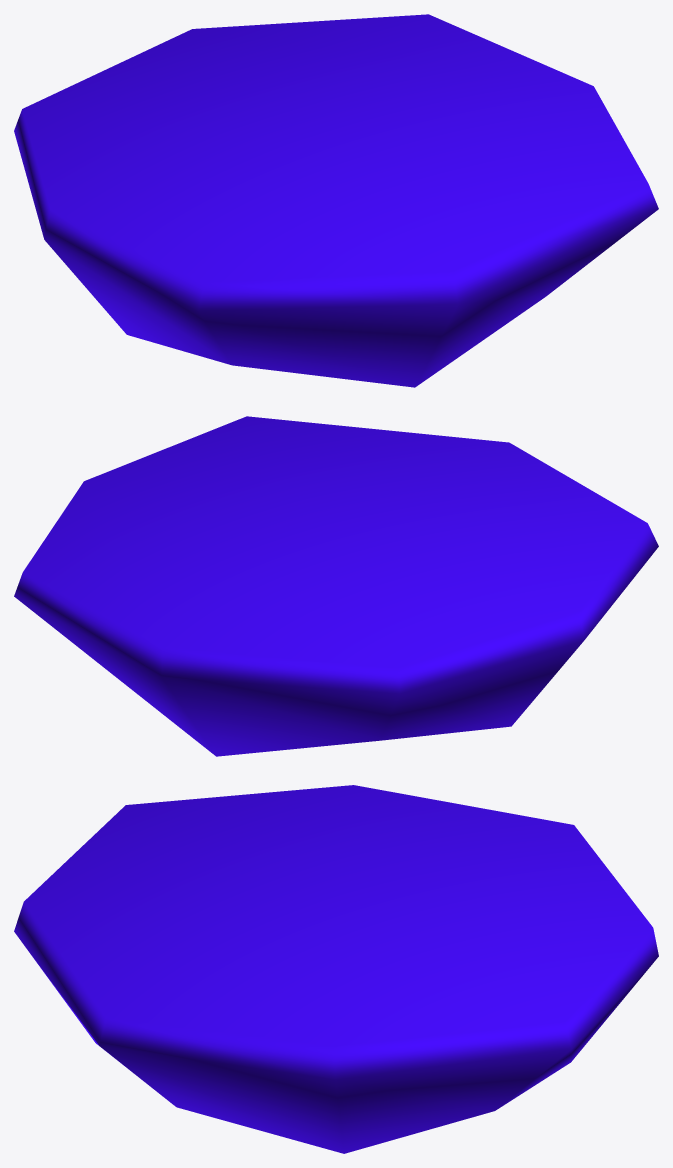
Rendered from InvisibleNaturePlatform_01.fbx.
3 renders of one model, top to bottom at view 1: azimuth 30°, elevation 25°; view 2: azimuth 150°, elevation 25°; view 3: azimuth 270°, elevation 25°, orthographic. The views are drawn at different scales.
Parts seen in each view (by area): view 1: InvisibleNaturePlatform_01; view 2: InvisibleNaturePlatform_01; view 3: InvisibleNaturePlatform_01.
Boxes of the visible parts, x1,y1,x2,y2 form: InvisibleNaturePlatform_01: (14, 14, 658, 387); InvisibleNaturePlatform_01: (14, 416, 658, 756); InvisibleNaturePlatform_01: (14, 785, 658, 1153).
Bounding box in the file's own units: 1171 × 372 × 1191.
